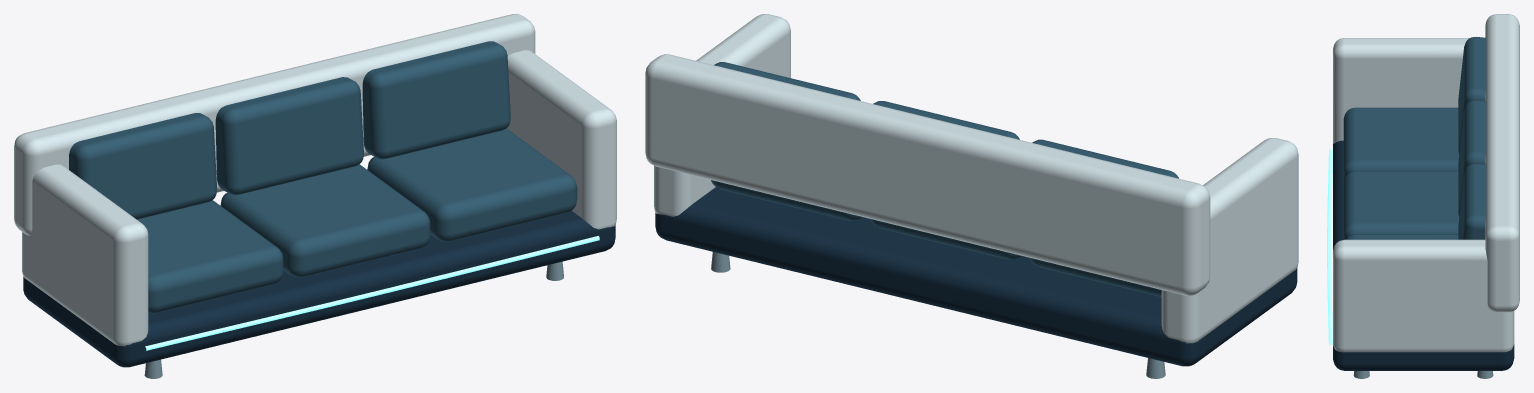
File: loungedesignsofa.glb
3 views of the same model, side by side, from view 1: azimuth 30°, elevation 25°; view 2: azimuth 150°, elevation 25°; view 3: azimuth 270°, elevation 25° (orthographic). The views are drawn at different scales.
Parts seen in each view (by area): view 1: atelier-cyber-loungedesignsofa; view 2: atelier-cyber-loungedesignsofa; view 3: atelier-cyber-loungedesignsofa.
Part boxes in pixels (left/top/right/bottom): atelier-cyber-loungedesignsofa: left=14, top=14, right=616, bottom=378; atelier-cyber-loungedesignsofa: left=645, top=14, right=1298, bottom=378; atelier-cyber-loungedesignsofa: left=1327, top=14, right=1519, bottom=378.
Size of the model in its own units: 2.8 by 1 by 1.04.
